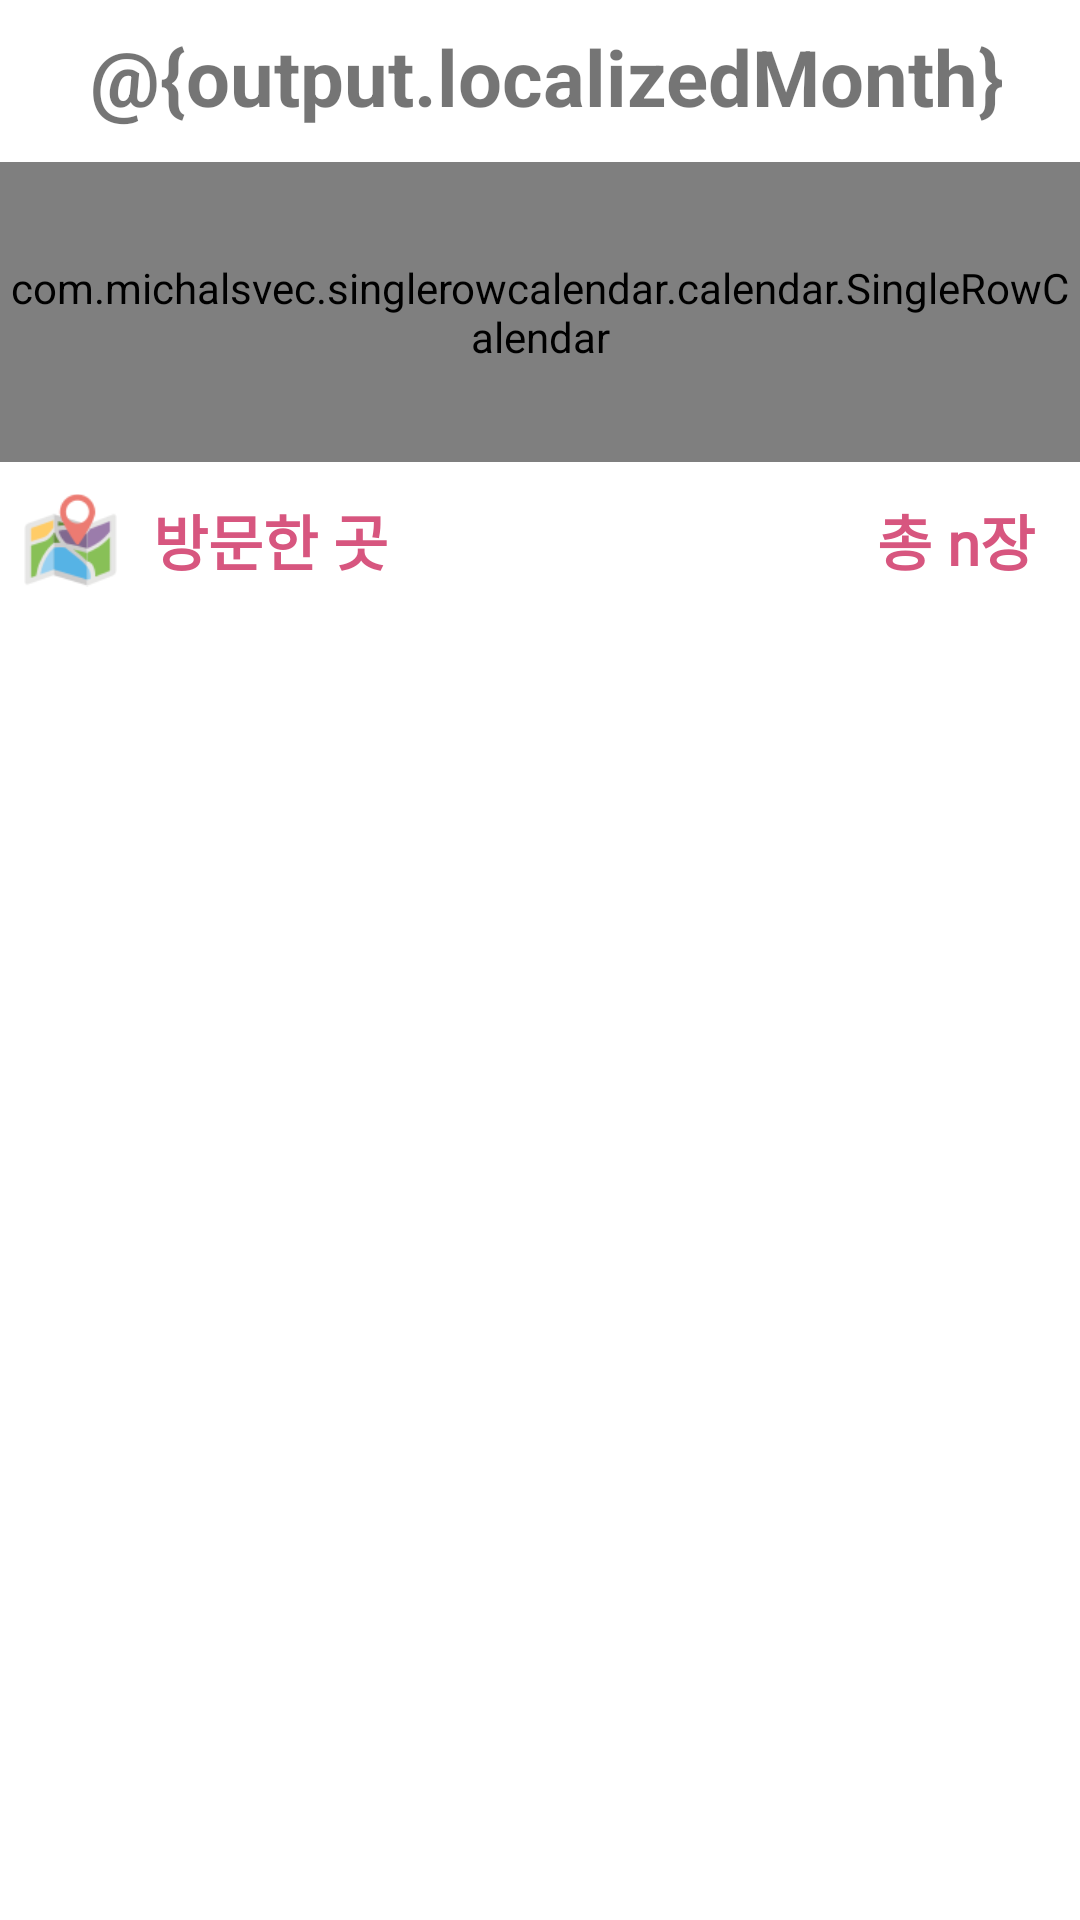

Screen size 1080 × 1920. Icon name, then its center in pixels as (x=x, y=y):
maplocation: (x=70, y=539)
